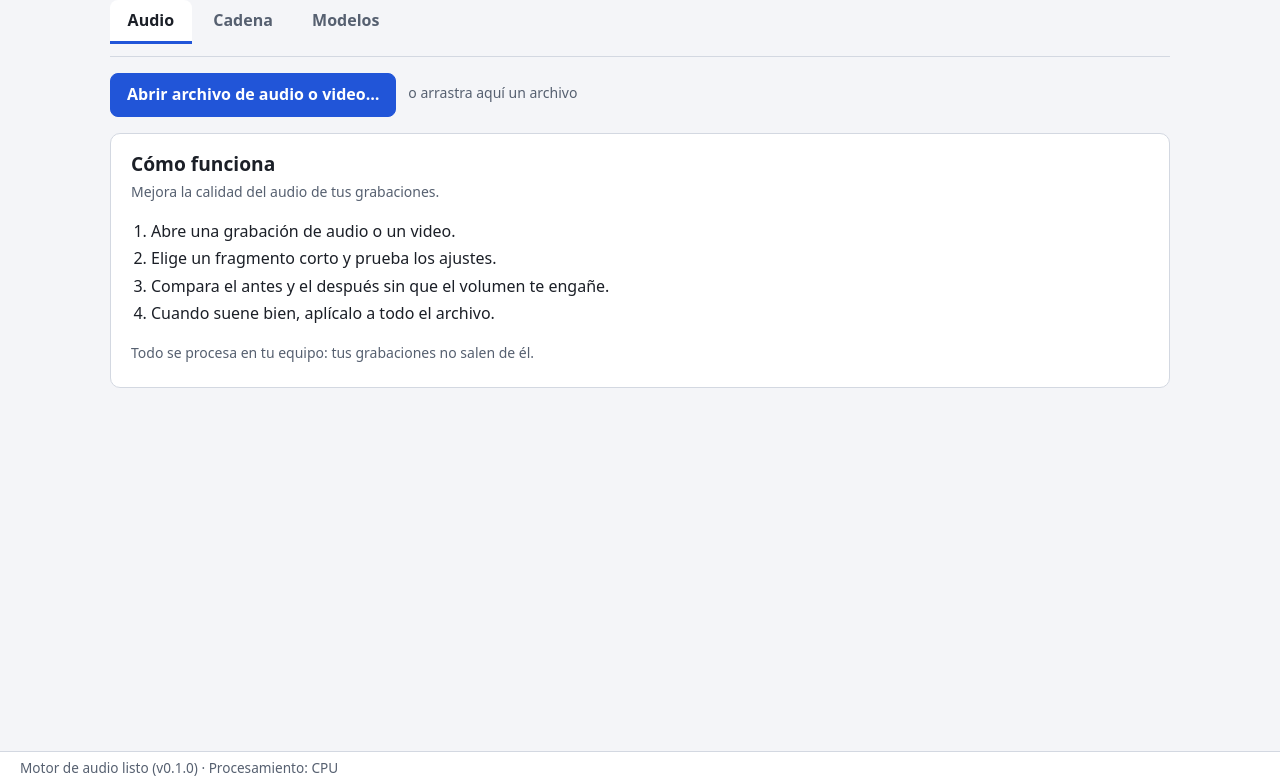
App › procesar todo con éxito muestra el archivo guardado y el volumen antes → después
Click the button "Abrir archivo de audio o video…" at [253, 95], box x1=110 y1=73 x2=396 y2=117
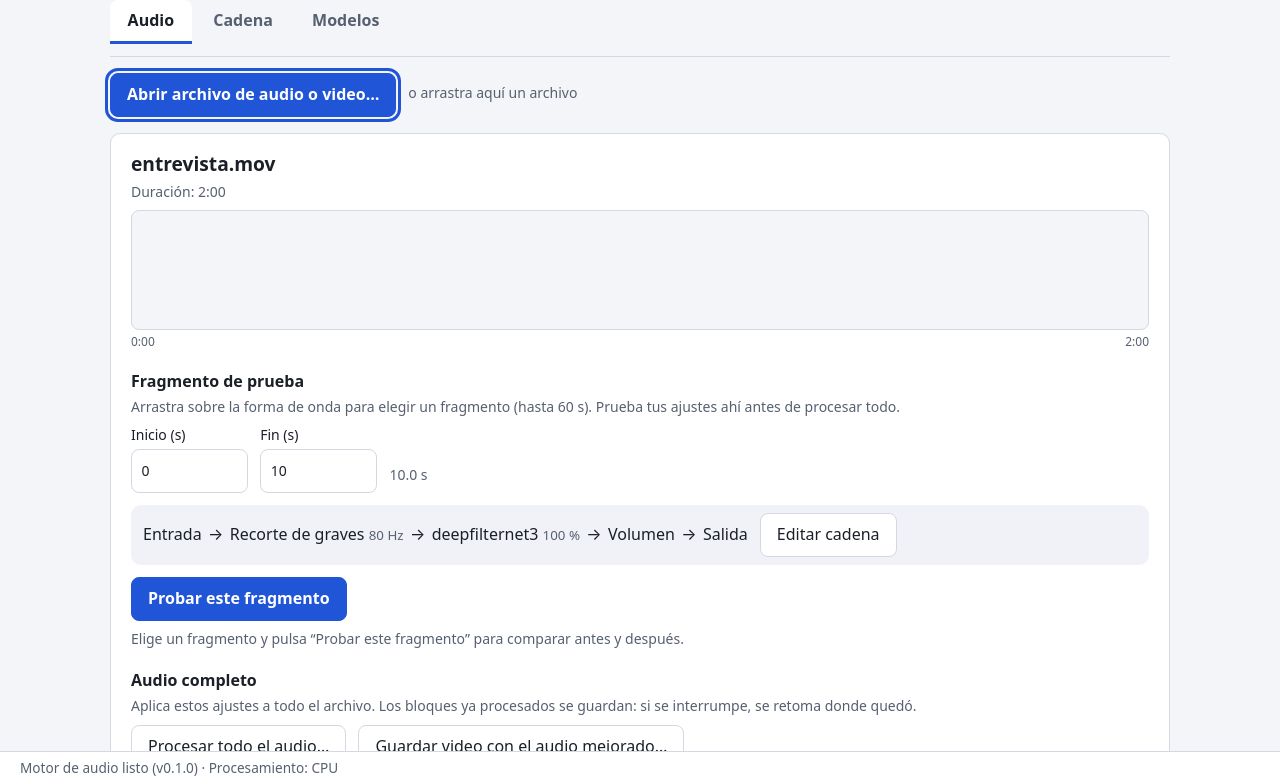
Now the heading "entrevista.mov" is shown, box x1=131 y1=150 x2=276 y2=177
Click the button "Procesar todo el audio…" at [239, 747], box x1=131 y1=725 x2=346 y2=769
(page scrolled)
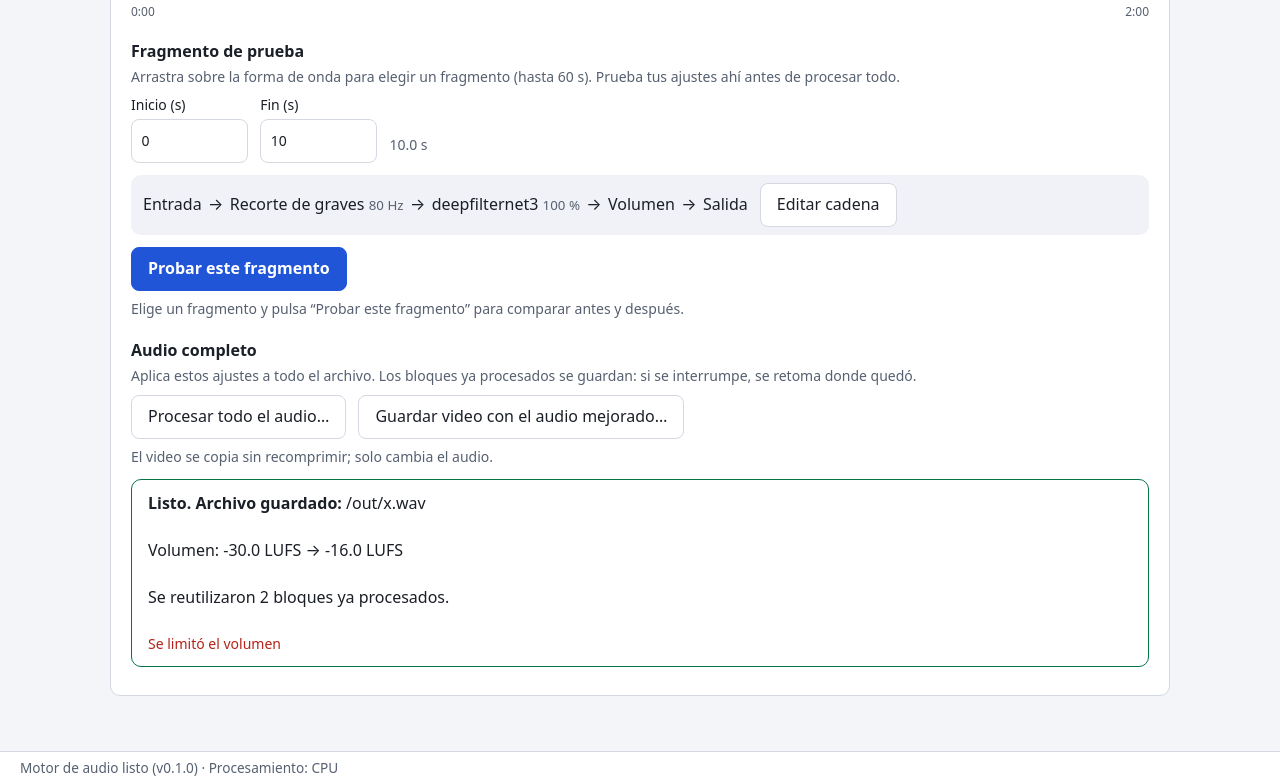
Now the text "Listo. Archivo guardado:" is shown, box x1=148 y1=492 x2=342 y2=514
Now the text "Se limitó el volumen" is shown, box x1=148 y1=634 x2=281 y2=654
